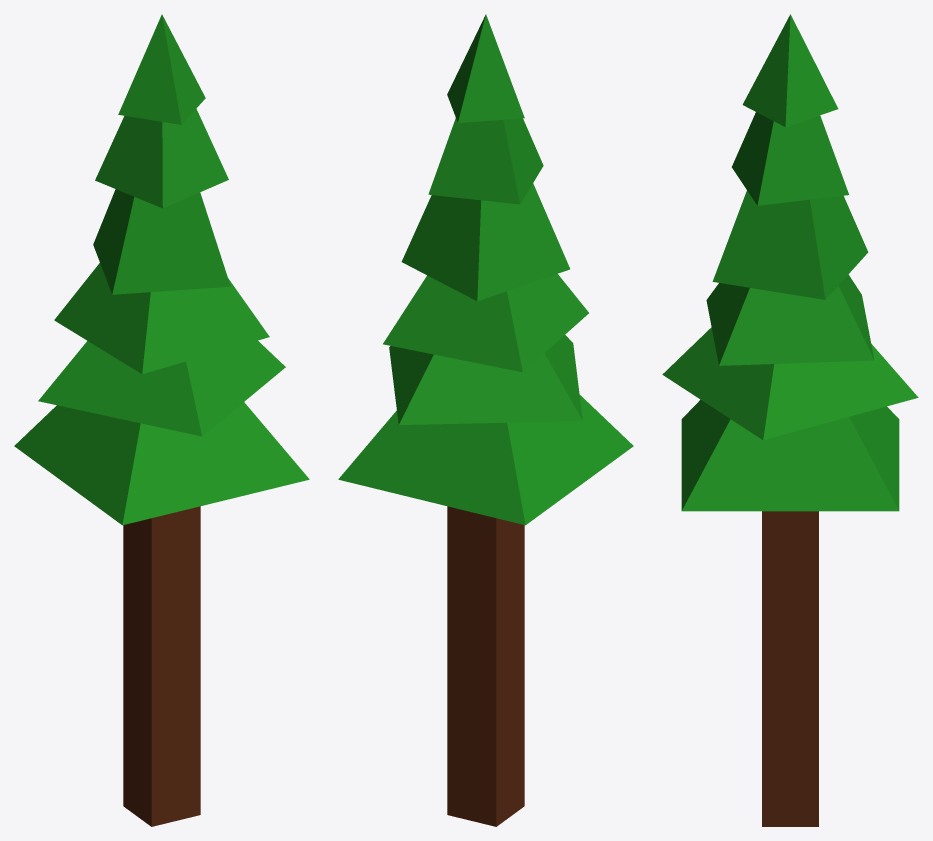
File: TreeModel.fbx
3 renders of one model, left to right at view 1: azimuth 30°, elevation 25°; view 2: azimuth 150°, elevation 25°; view 3: azimuth 270°, elevation 25°, orthographic.
Visible parts, largest first — view 1: Tree; view 2: Tree; view 3: Tree.
Boxes of the visible parts, left/top/right/bottom form: Tree: left=14, top=14, right=309, bottom=826; Tree: left=338, top=14, right=633, bottom=826; Tree: left=662, top=14, right=918, bottom=826.
Bounding box in the file's own units: 666 × 2296 × 666.
